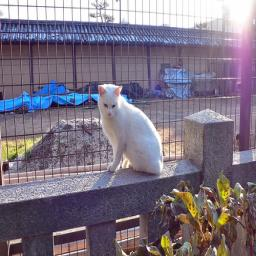catnose: (108, 111, 112, 118)
